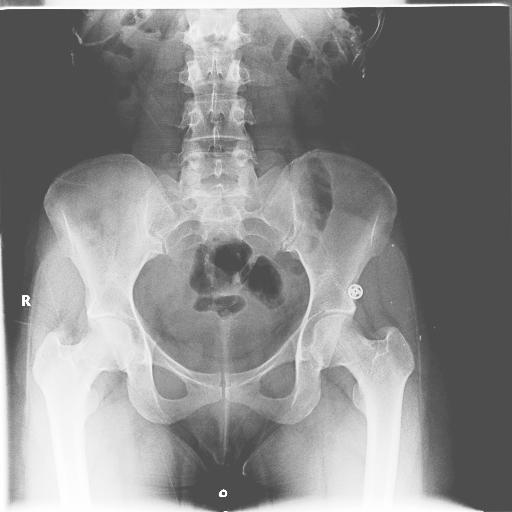normal: (310, 314, 415, 483), (32, 319, 136, 485)
